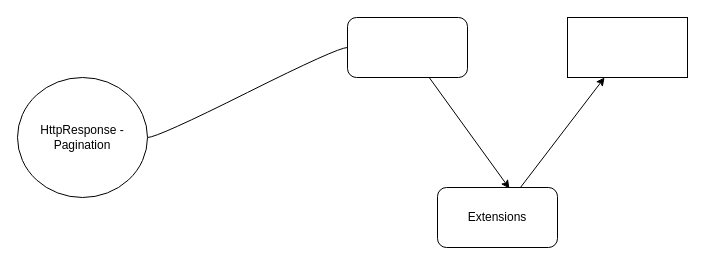
The diagram is 705 pixels wide and 265 high, and some of its shapes have lost their labels. Each missing label, with the centre of its shape:
"Controller" goes at point (627, 47).
"PaginationHeader" goes at point (407, 47).
